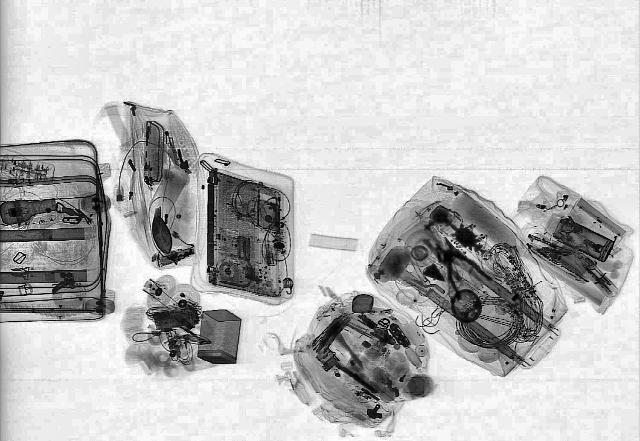Pliers: (422, 232, 492, 292)
